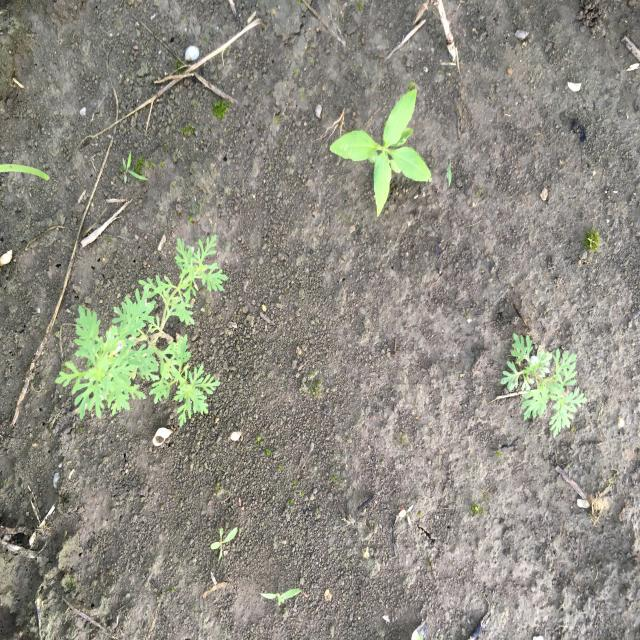Eclipta: (328, 86, 434, 220)
Ragweed: (54, 232, 229, 430), (499, 332, 588, 440)
